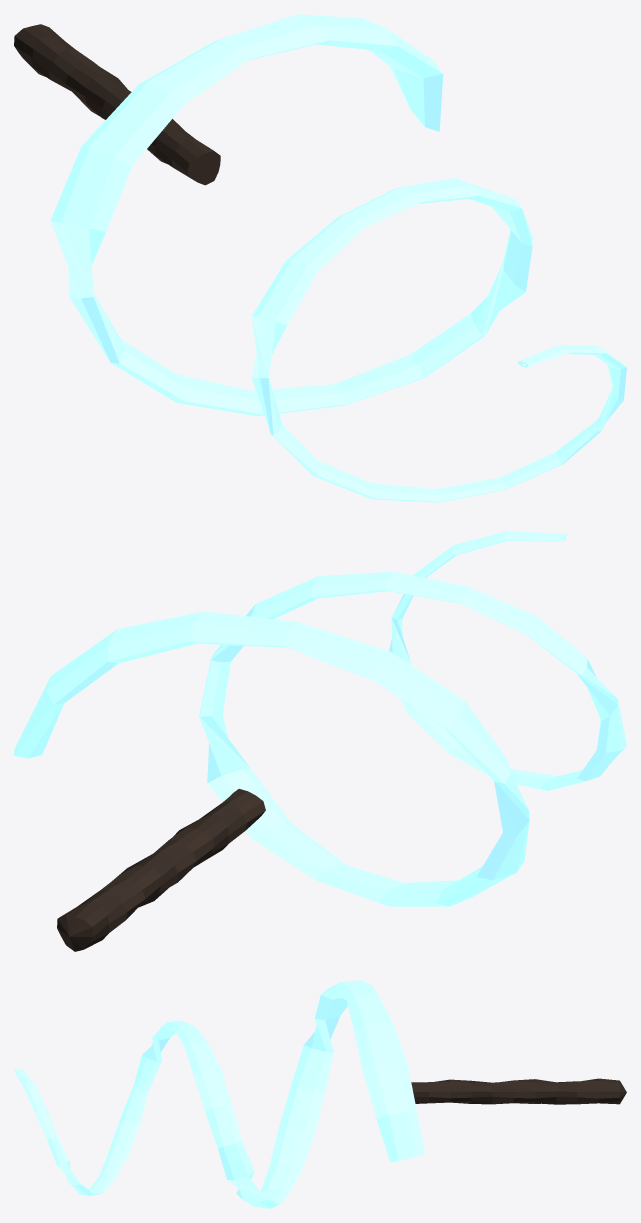
The model's file is arc_whip_idle.glb.
3 renders of one model, top to bottom at view 1: azimuth 30°, elevation 25°; view 2: azimuth 150°, elevation 25°; view 3: azimuth 270°, elevation 25°, orthographic. The views are drawn at different scales.
Visible parts, largest first — view 1: lightning_body_idle, handle; view 2: lightning_body_idle, handle; view 3: lightning_body_idle, handle.
Boxes of the visible parts, bbox=[...] form: lightning_body_idle: bbox=[50, 14, 626, 502]; handle: bbox=[14, 24, 220, 185]; lightning_body_idle: bbox=[14, 531, 626, 906]; handle: bbox=[57, 789, 265, 951]; lightning_body_idle: bbox=[14, 980, 424, 1208]; handle: bbox=[411, 1078, 626, 1104].
Bounding box in the file's own units: 0.4331 × 0.2995 × 0.8667.
